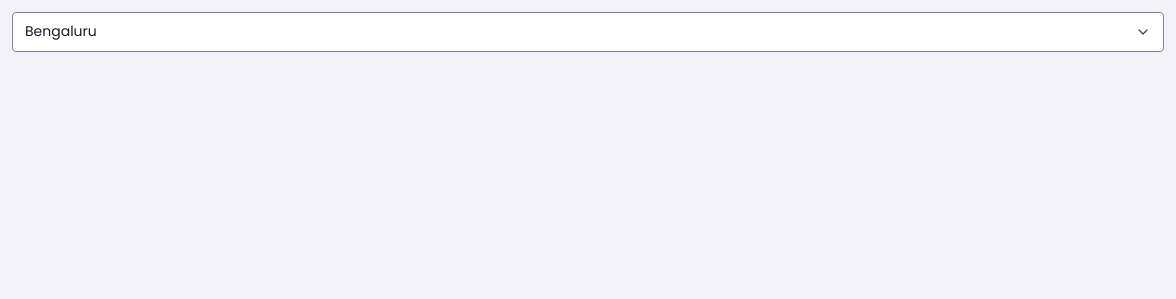
Test: Dropdown › renders optgroups as labelled groups
The image size is (1176, 299).
Click the dropdown named "City". click: (61, 31)
box: top-left (12, 12), bottom-right (1164, 52)
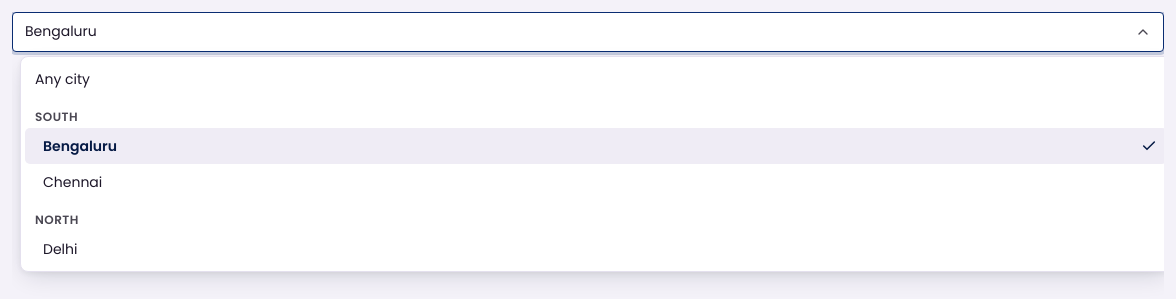
Now the option "Delhi" is shown, box top-left (43, 239), bottom-right (77, 259)
